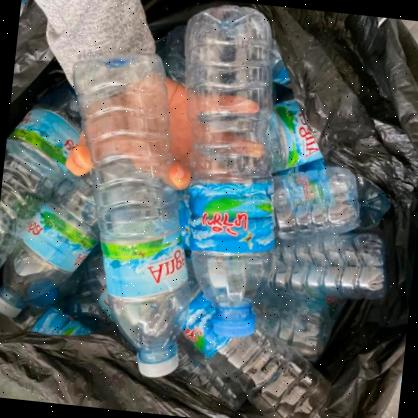bottle: (42, 42, 216, 380), (153, 0, 300, 339)
cap: (132, 343, 180, 381), (209, 308, 256, 338)
label: (186, 172, 280, 260), (96, 224, 191, 304)
